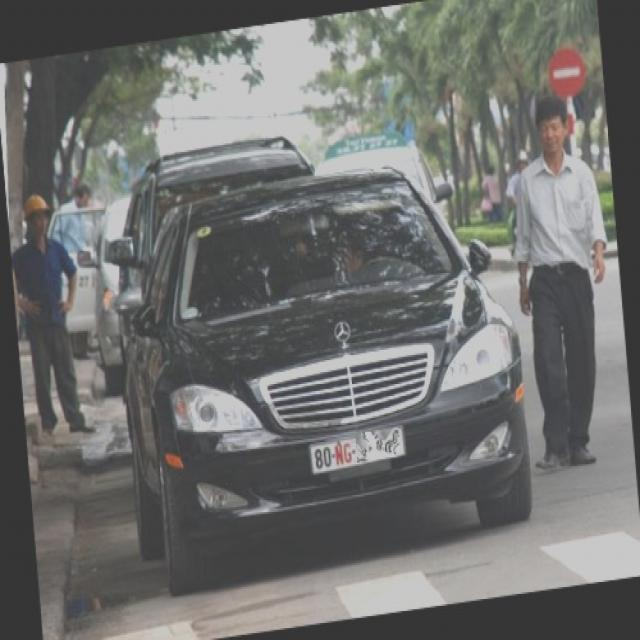bien_ngoai_giao: (300, 432, 410, 472)
